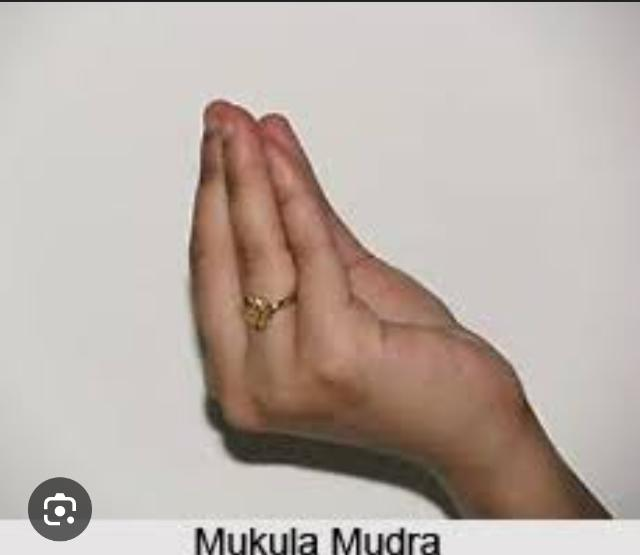mukul: (188, 98, 608, 522)
